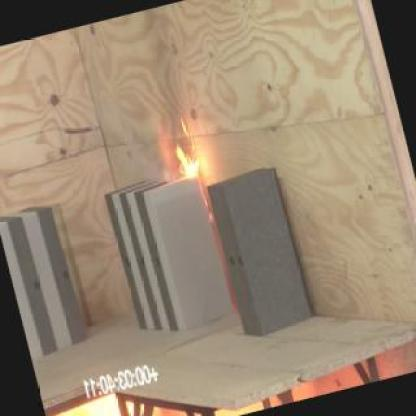Fire: (162, 110, 206, 180), (61, 386, 126, 415)
